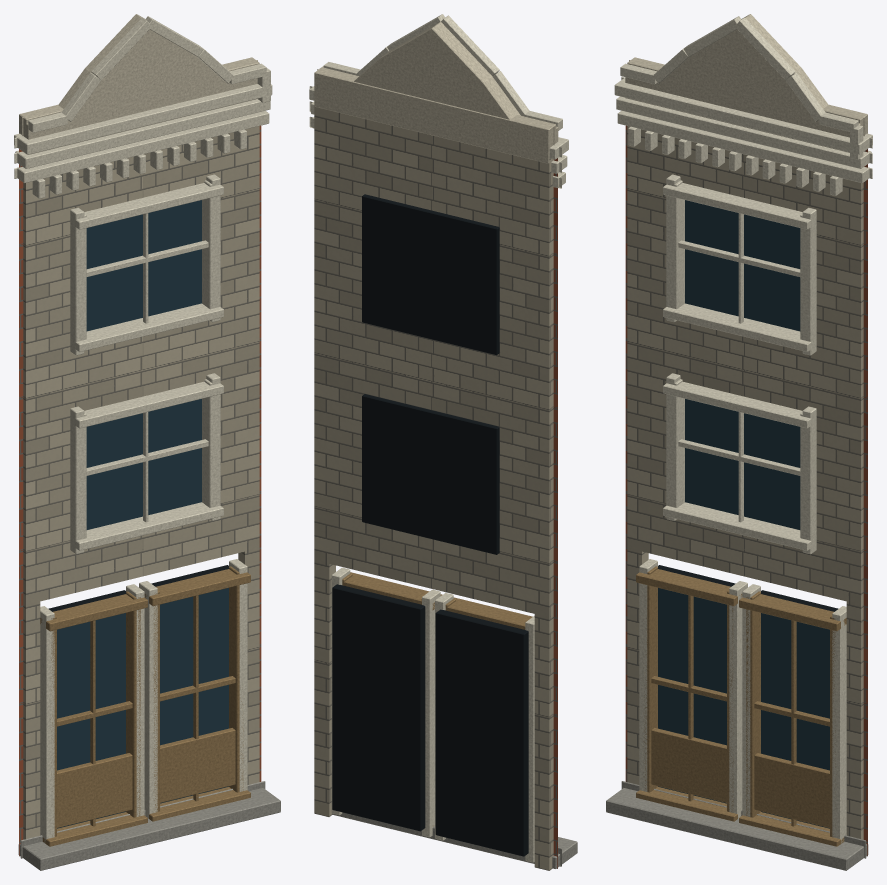
Rendered from RUNDWN11_lod1.glb.
3 views of the same model, side by side, from view 1: azimuth 30°, elevation 25°; view 2: azimuth 150°, elevation 25°; view 3: azimuth 330°, elevation 25° (orthographic).
Parts seen in each view (by area): view 1: RUNDWN11_FRONT_LOD1; view 2: RUNDWN11_FRONT_LOD1; view 3: RUNDWN11_FRONT_LOD1.
Boxes of the visible parts, x1,y1,x2,y2 form: RUNDWN11_FRONT_LOD1: (14, 14, 280, 870); RUNDWN11_FRONT_LOD1: (309, 14, 577, 870); RUNDWN11_FRONT_LOD1: (606, 14, 872, 870).
Bounding box in the file's own units: 3.44 × 10.64 × 0.68.
9 materials, 7 textured.
